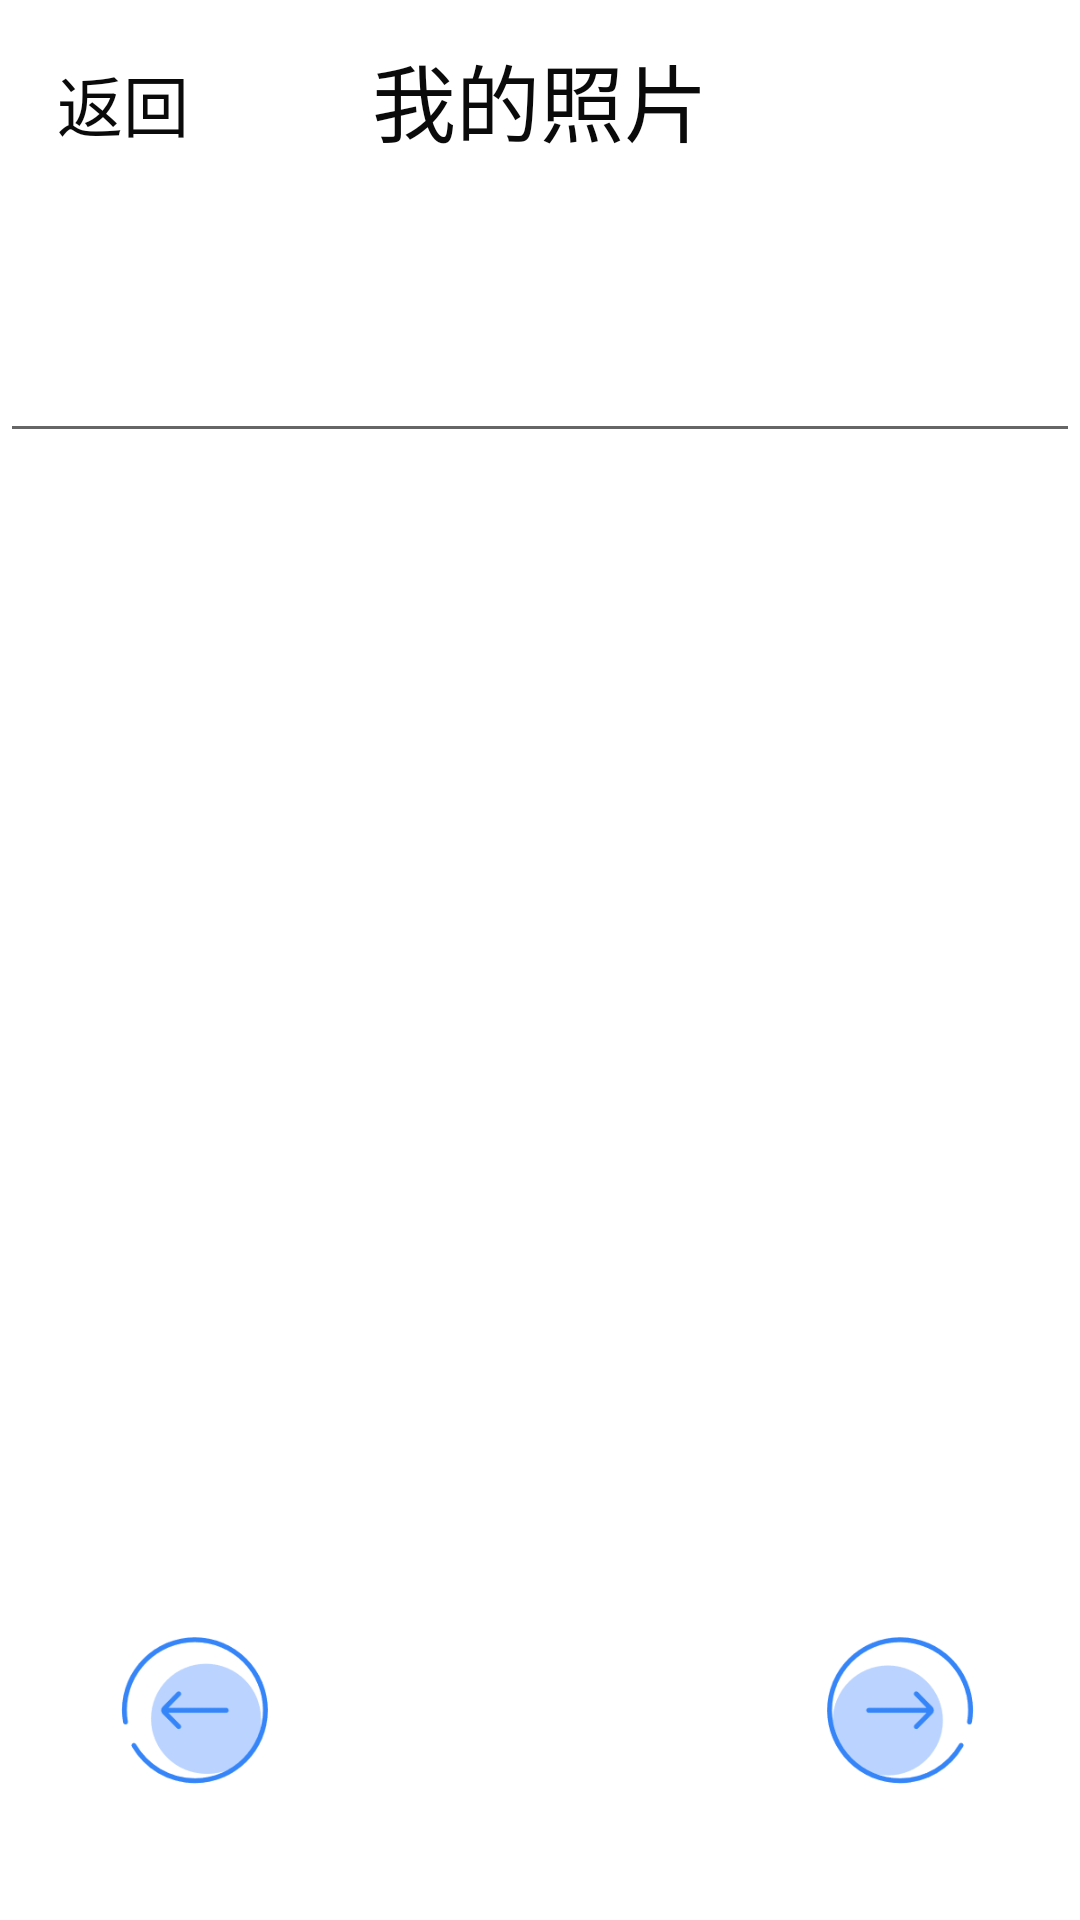

Screen size 1080 × 1920. Icon name, then its center in pixels as point (x, y):
next: point (900, 1710)
pre: point (195, 1710)
